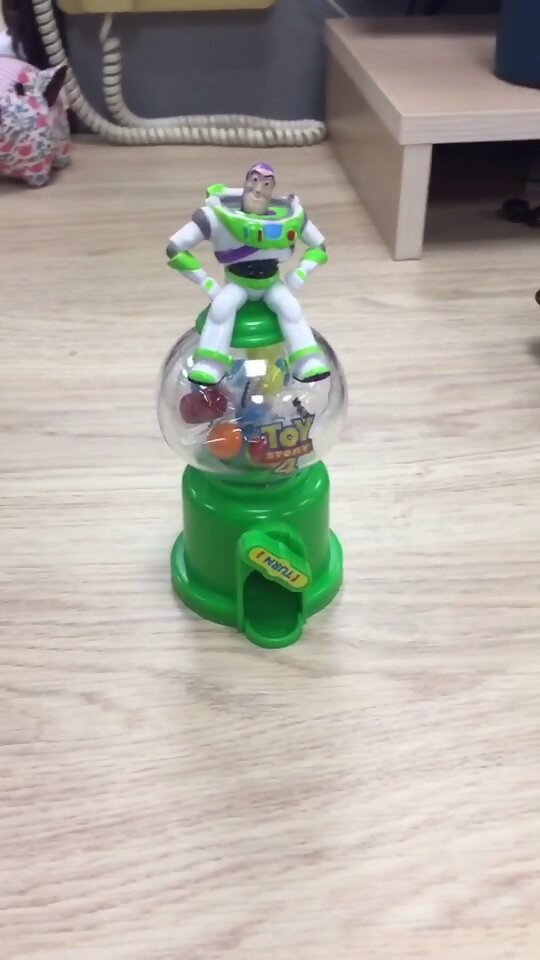buzz: (151, 159, 356, 656)
